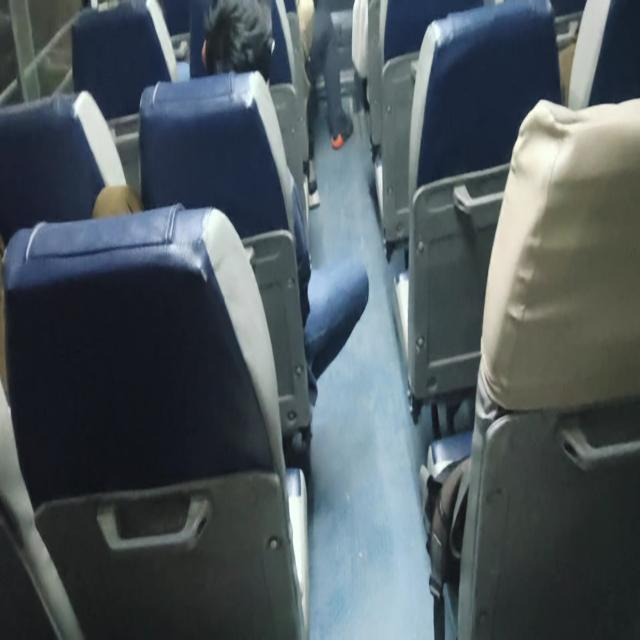person: (199, 0, 263, 94)
